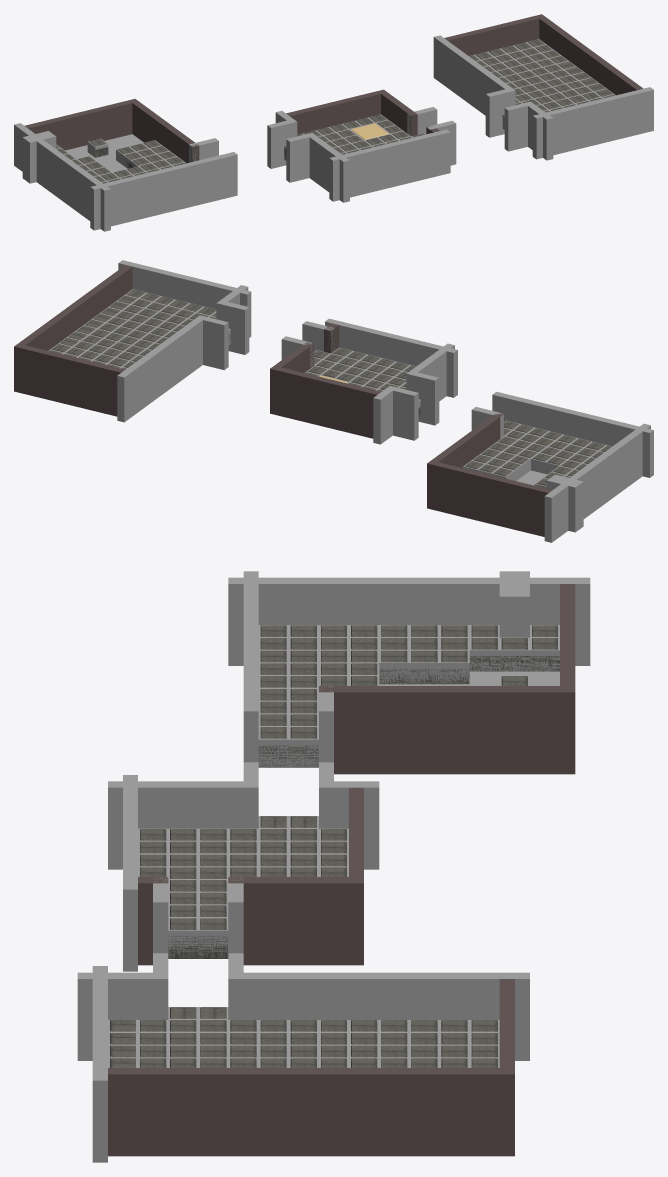
Rendered from first_level.fbx.
The picture shows the model from 3 angles, top to bottom: view 1: azimuth 30°, elevation 25°; view 2: azimuth 150°, elevation 25°; view 3: azimuth 270°, elevation 25°; orthographic projection. The views are drawn at different scales.
Visible parts, largest first — view 1: left_limits, right_limits, center_limits, left, right, center, first_center_mesh1, first_left_mesh, first_center_mesh; view 2: right_limits, left_limits, center_limits, right, left, center, first_center_mesh1, first_left_mesh, first_center_mesh; view 3: right, left, right_limits, left_limits, center_limits, center, first_left_mesh, first_center_mesh, first_center_mesh1, lowShape_MASH_Escenary_1_center_Instancer_22, lowShape_MASH_Escenary_1_center_Instancer_14.
Boxes of the visible parts, left/top/right/bottom form: left_limits: left=14, top=123, right=237, bottom=231; right_limits: left=433, top=35, right=653, bottom=160; center_limits: left=267, top=107, right=456, bottom=202; left: left=24, top=99, right=199, bottom=163; right: left=444, top=14, right=642, bottom=95; center: left=286, top=89, right=439, bottom=136; first_center_mesh1: left=469, top=39, right=615, bottom=128; first_left_mesh: left=56, top=138, right=186, bottom=182; first_center_mesh: left=284, top=114, right=425, bottom=160; right_limits: left=117, top=260, right=251, bottom=422; left_limits: left=471, top=391, right=653, bottom=542; center_limits: left=281, top=318, right=457, bottom=444; right: left=14, top=265, right=132, bottom=416; left: left=427, top=412, right=552, bottom=536; center: left=270, top=323, right=380, bottom=438; first_center_mesh1: left=48, top=289, right=230, bottom=368; first_left_mesh: left=463, top=420, right=612, bottom=488; first_center_mesh: left=305, top=347, right=420, bottom=408; right: left=108, top=979, right=514, bottom=1156; left: left=319, top=584, right=575, bottom=774; right_limits: left=77, top=953, right=529, bottom=1162; left_limits: left=228, top=571, right=590, bottom=762; center_limits: left=108, top=762, right=379, bottom=971; center: left=138, top=787, right=363, bottom=965; first_left_mesh: left=258, top=625, right=559, bottom=766; first_center_mesh: left=138, top=816, right=348, bottom=957; first_center_mesh1: left=108, top=1007, right=499, bottom=1067; lowShape_MASH_Escenary_1_center_Instancer_22: left=198, top=918, right=228, bottom=958; lowShape_MASH_Escenary_1_center_Instancer_14: left=168, top=918, right=198, bottom=958.
Size of the model in its own units: 4000 by 300 by 1700.
